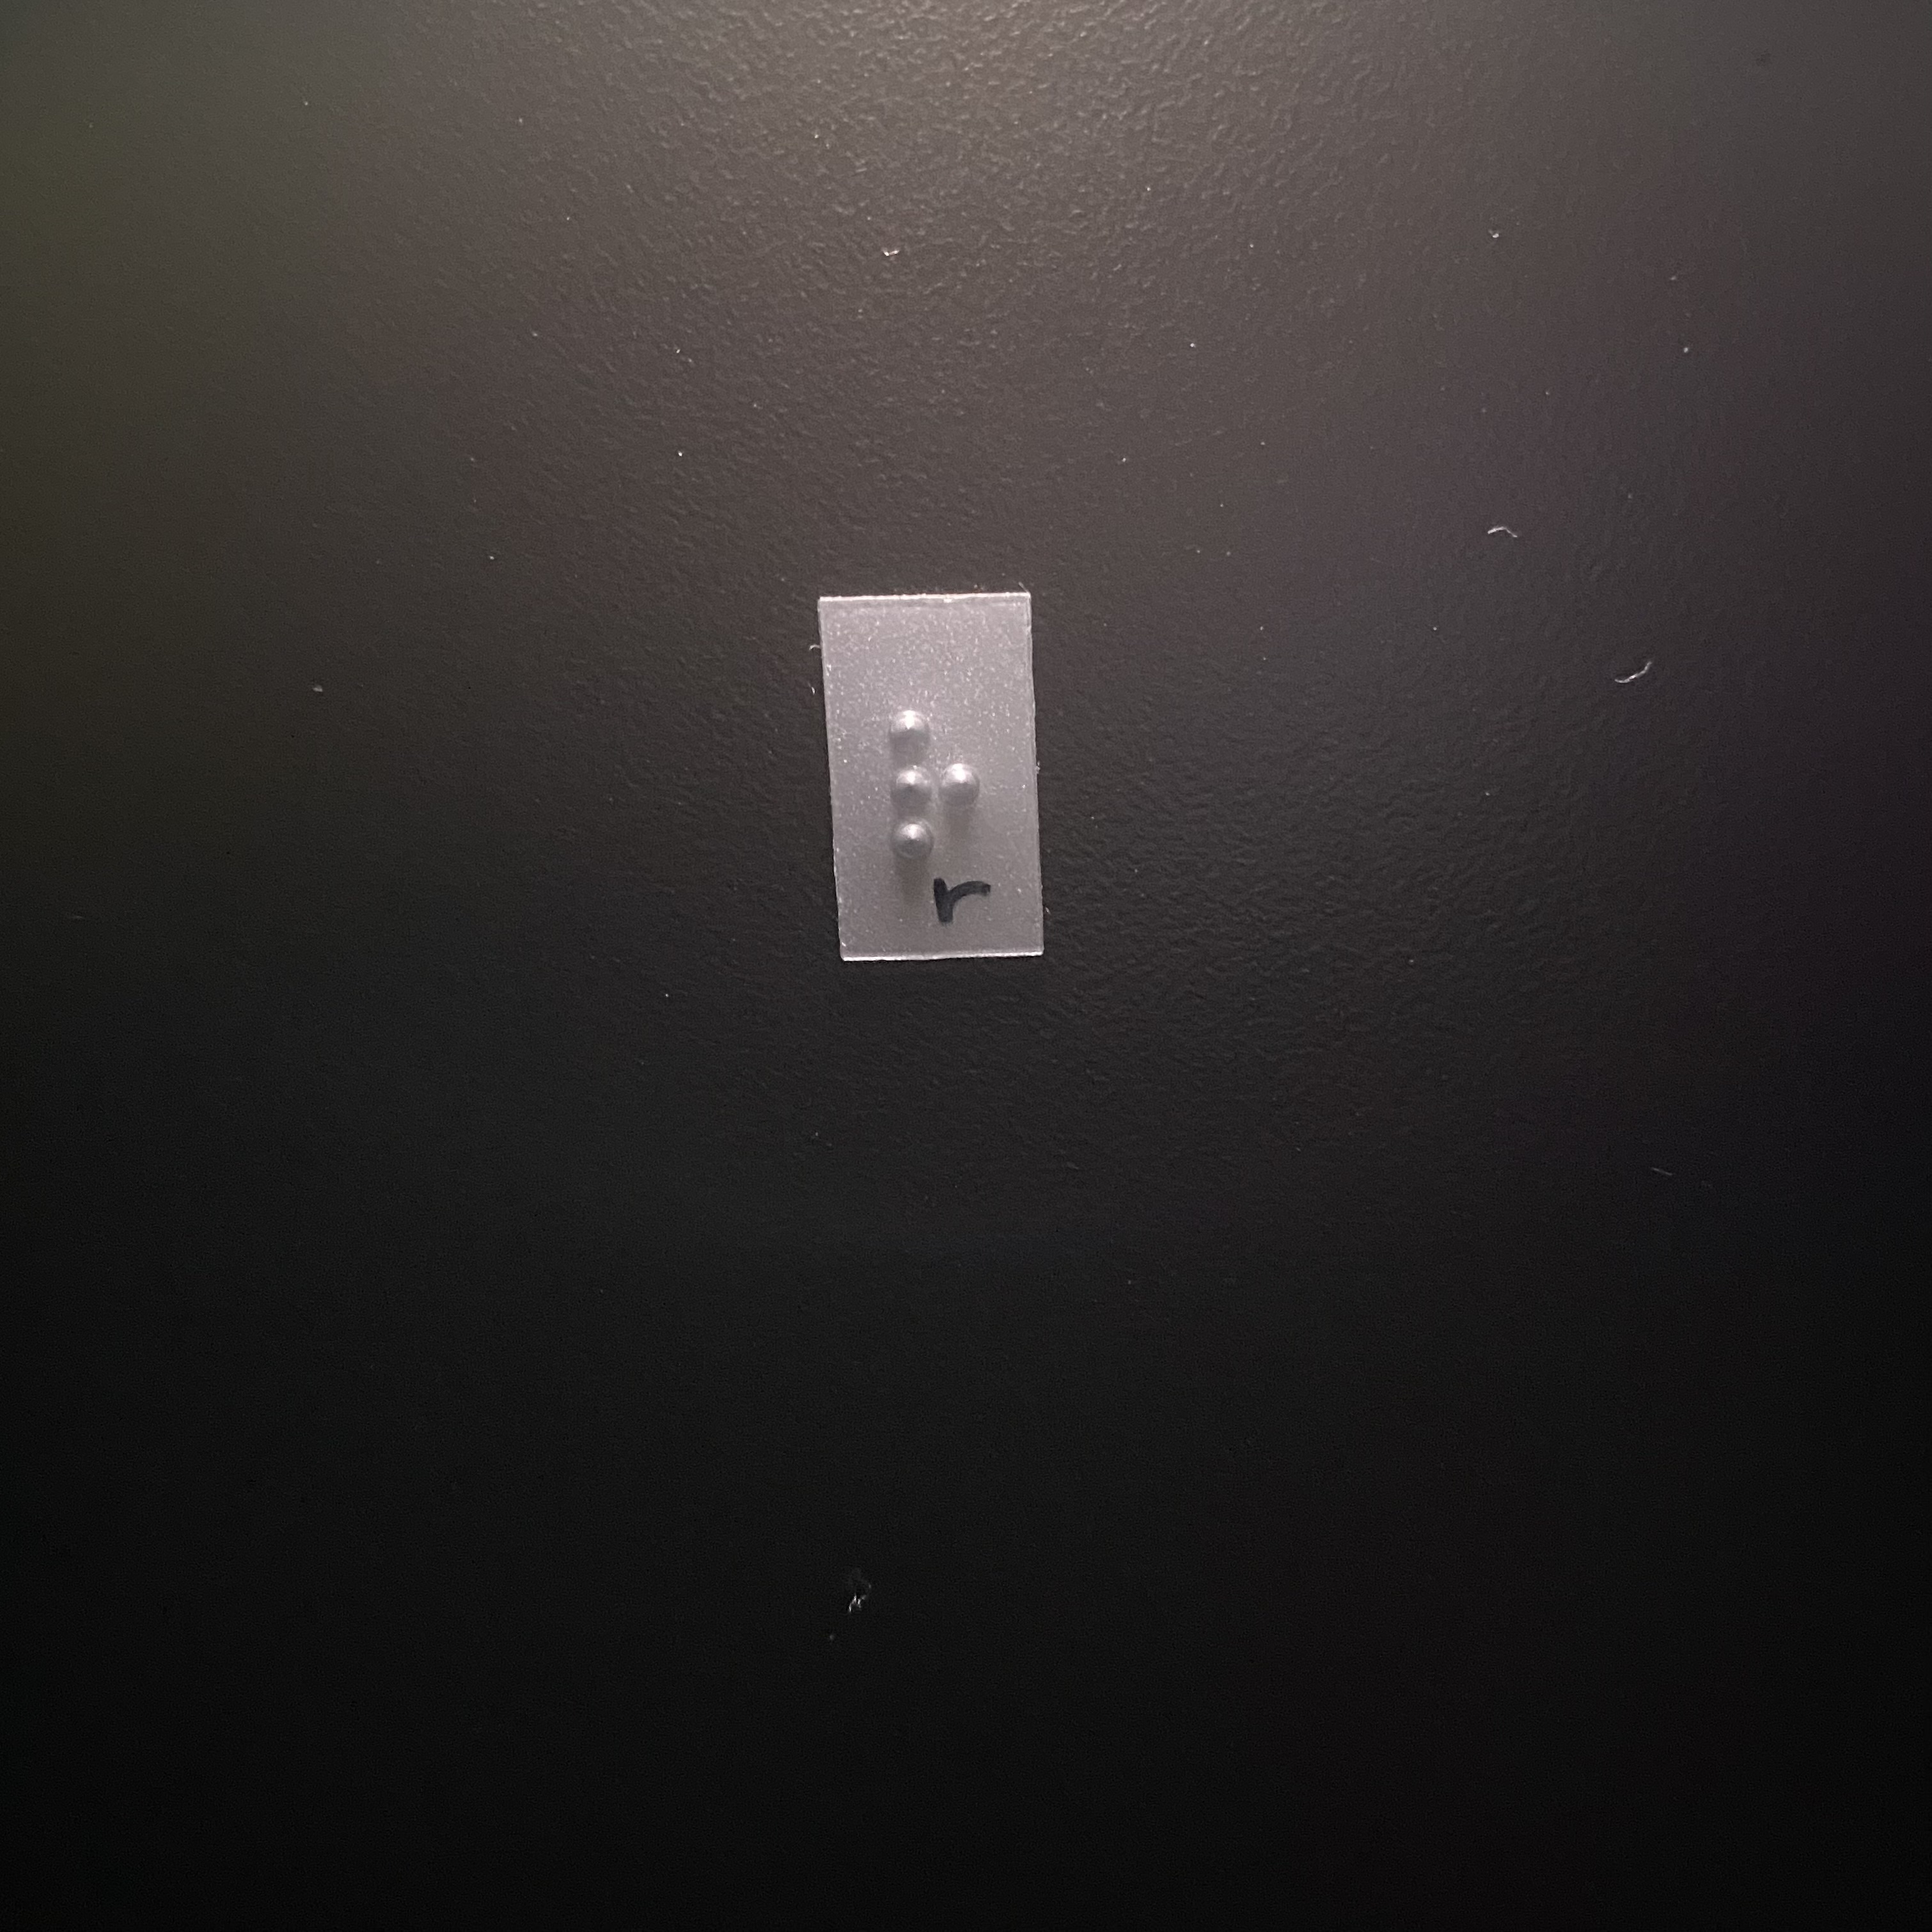r: (882, 700, 1003, 890)
